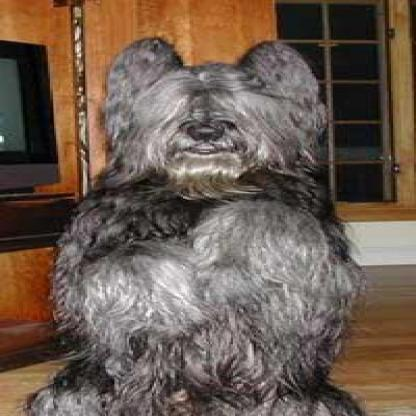briard: (25, 35, 364, 412)
